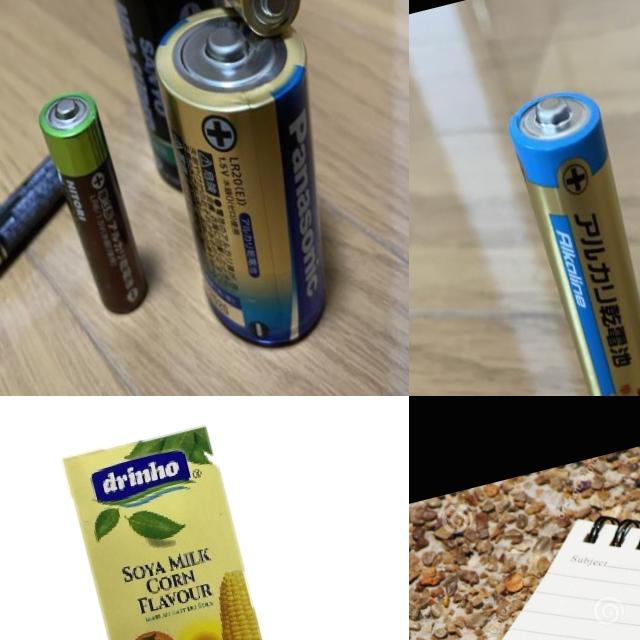bateria: (134, 0, 379, 366), (500, 72, 640, 396), (93, 0, 280, 194), (30, 81, 155, 328), (0, 149, 93, 279), (157, 0, 315, 56)
caixinha: (61, 413, 308, 640)
papel: (409, 471, 640, 640)
